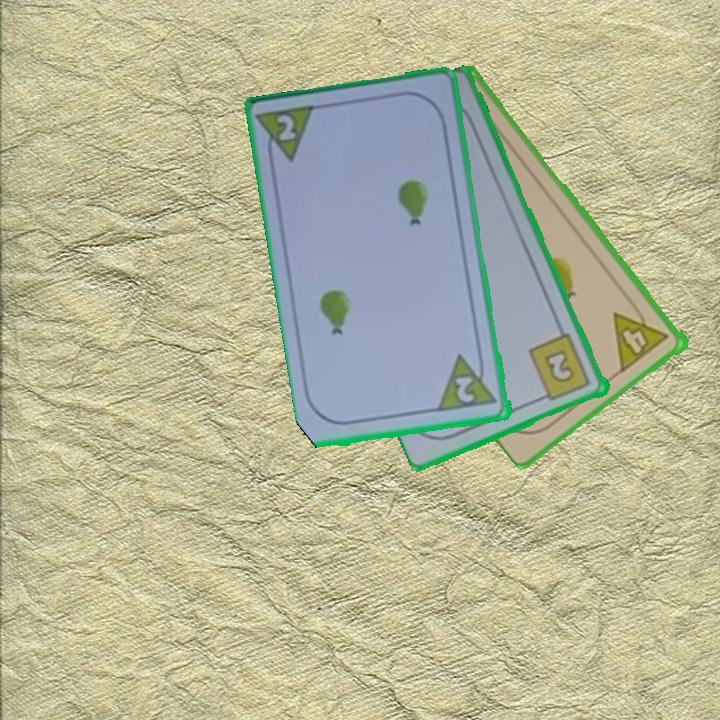2b: (525, 330, 594, 404)
2p: (436, 349, 501, 415), (273, 110, 300, 145)
4p: (609, 298, 673, 374)
